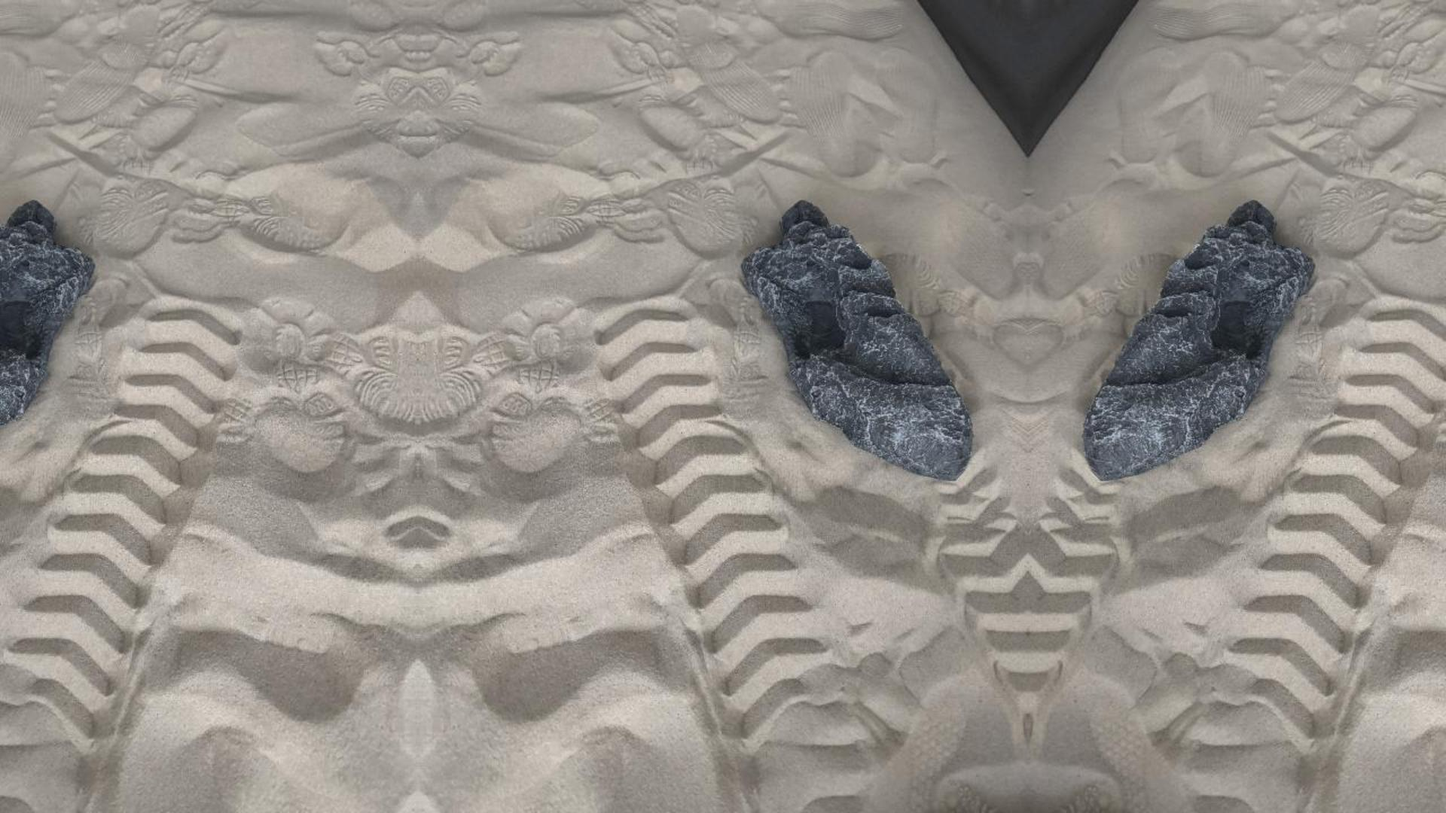rock: (741, 200, 972, 480), (1082, 200, 1313, 480), (0, 200, 94, 425)
